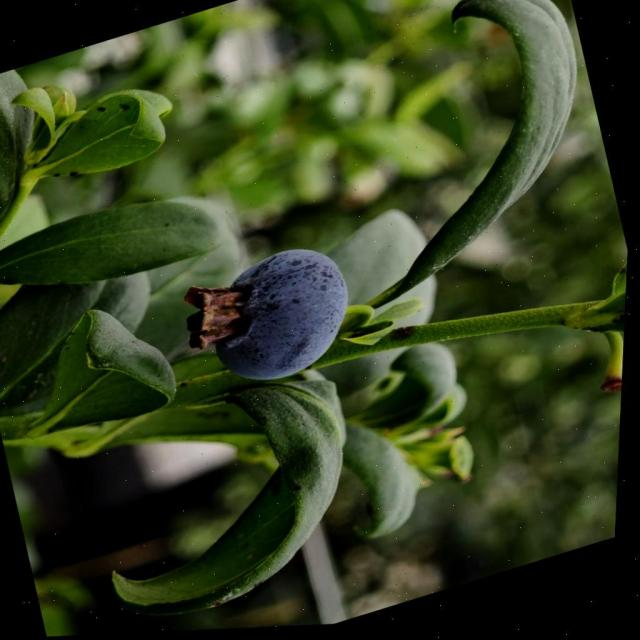RipeBlueBerry: (181, 233, 376, 408)
